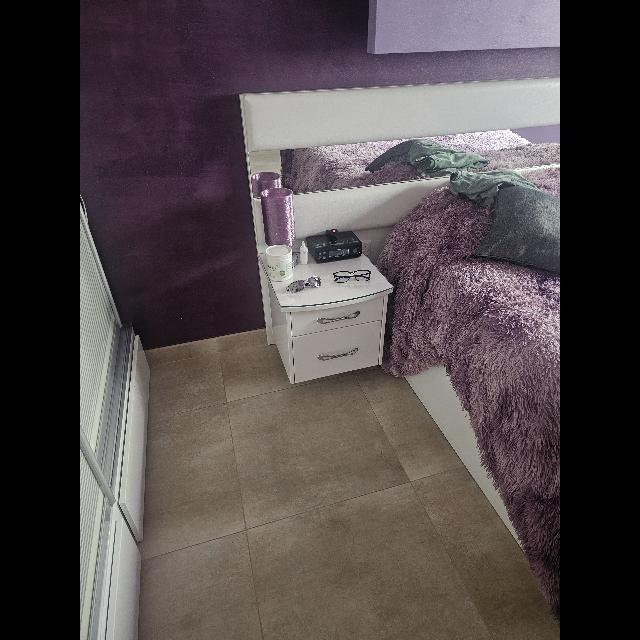Sunglasses: (286, 277, 322, 293)
glasses: (332, 270, 372, 282)
